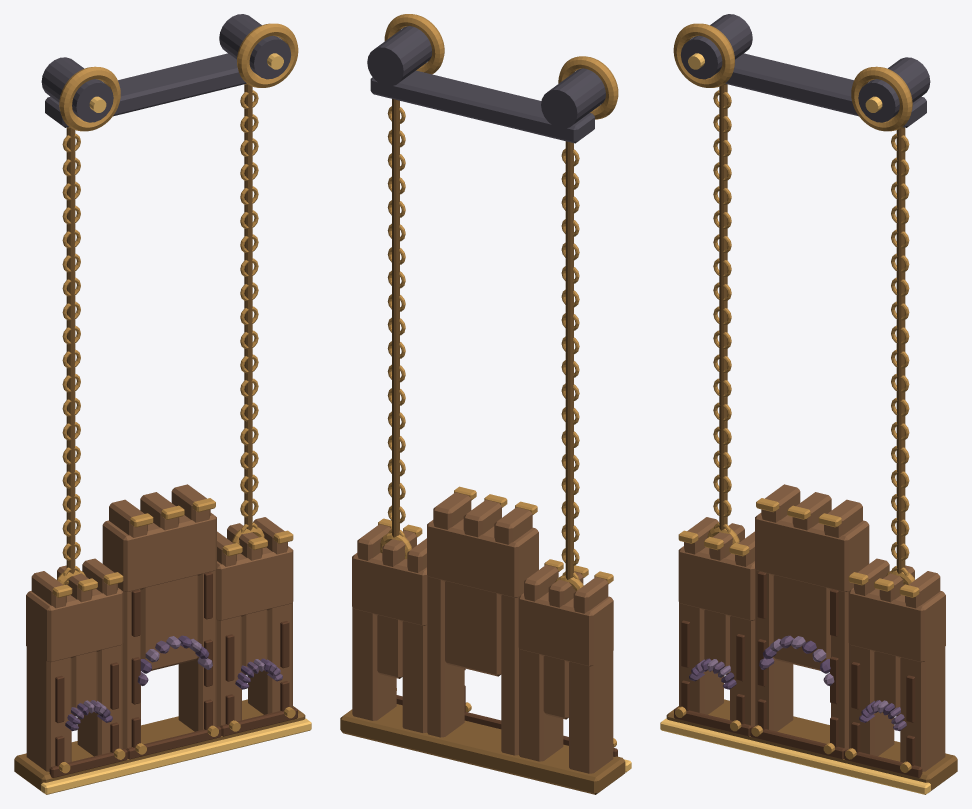
File: SM_Vault_EastFlyBar.fbx
3 views of the same model, side by side, from view 1: azimuth 30°, elevation 25°; view 2: azimuth 150°, elevation 25°; view 3: azimuth 330°, elevation 25° (orthographic). The views are drawn at different scales.
Visible parts, largest first — view 1: SM_Vault_EastFlyBar; view 2: SM_Vault_EastFlyBar; view 3: SM_Vault_EastFlyBar.
Part boxes in pixels (x1=…): SM_Vault_EastFlyBar: x1=14, y1=14, x2=311, y2=794; SM_Vault_EastFlyBar: x1=340, y1=14, x2=631, y2=794; SM_Vault_EastFlyBar: x1=660, y1=14, x2=957, y2=794.
Size of the model in its own units: 186 by 53.5 by 480.
